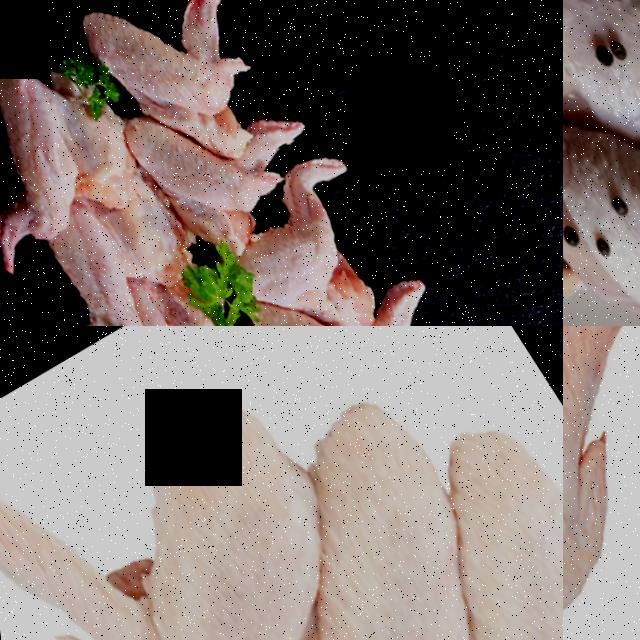chicken thigh: (563, 79, 640, 326), (563, 0, 640, 241)
chicken wing: (0, 326, 396, 640), (112, 65, 338, 273), (0, 34, 155, 280), (63, 0, 289, 155), (0, 188, 224, 326), (563, 326, 640, 640), (225, 235, 487, 326)
